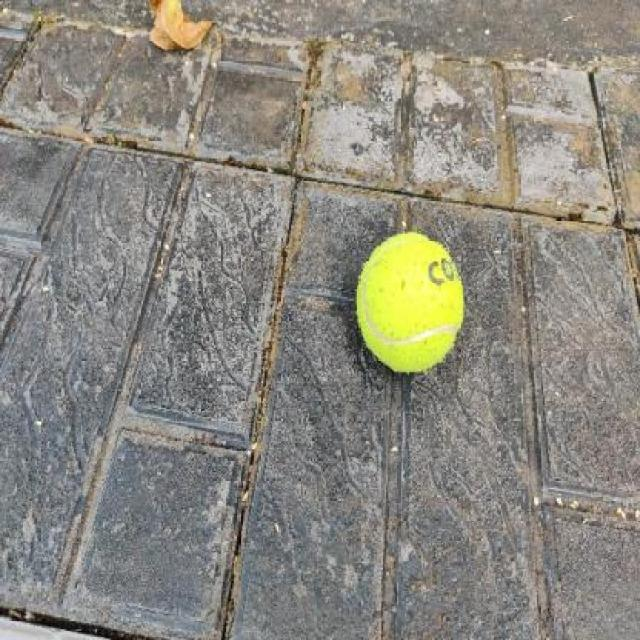Cricket ball: (346, 223, 477, 397)
